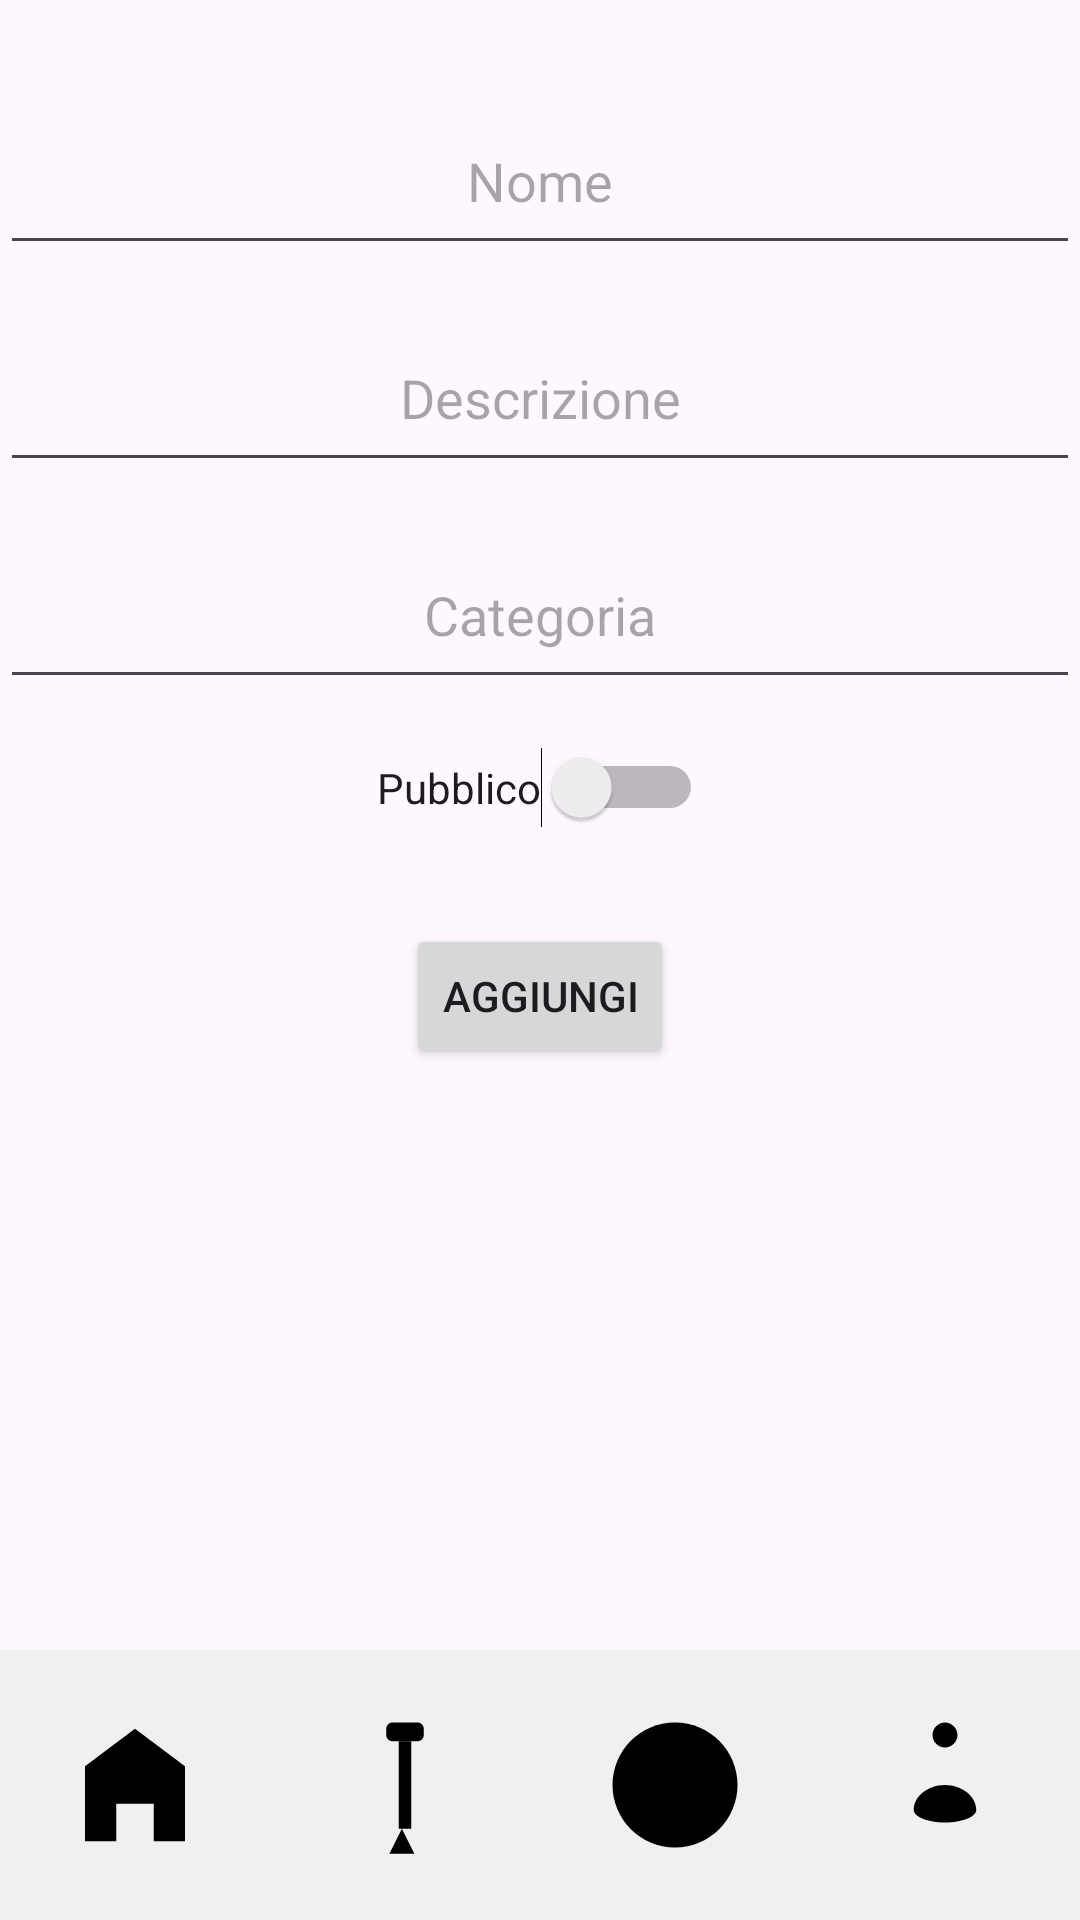

Point at icon controls on the screen. Image size 1080px x 1920px, points as (x=x, y=y).
Home: (x=135, y=1785)
Profilo: (x=945, y=1772)
tool: (x=405, y=1788)
